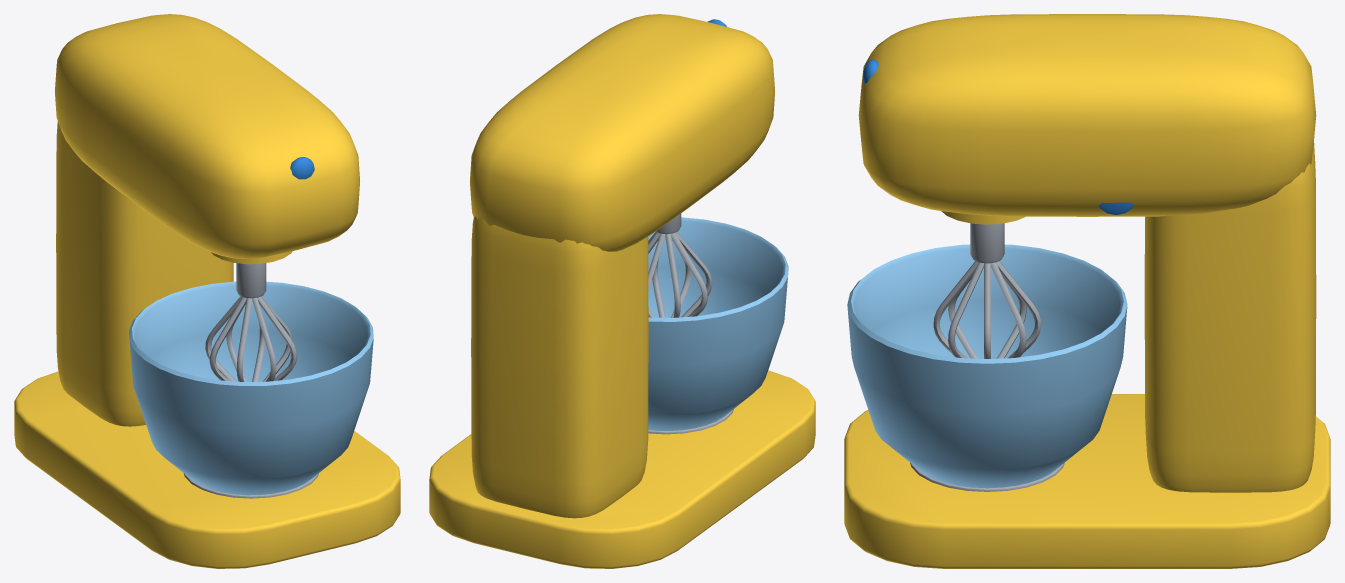
Rendered from batedeira_planetaria_amarela.glb.
3 renders of one model, left to right at view 1: azimuth 30°, elevation 25°; view 2: azimuth 150°, elevation 25°; view 3: azimuth 270°, elevation 25°, orthographic. The views are drawn at different scales.
Visible parts, largest first — view 1: batedeira_planetaria_amarela; view 2: batedeira_planetaria_amarela; view 3: batedeira_planetaria_amarela.
Part boxes in pixels (x1=…): batedeira_planetaria_amarela: x1=14, y1=14, x2=400, y2=568; batedeira_planetaria_amarela: x1=429, y1=14, x2=815, y2=568; batedeira_planetaria_amarela: x1=844, y1=14, x2=1330, y2=568.
Size of the model in its own units: 0.22 by 0.36 by 0.34.
Materials: 1 (1 with a texture image).
